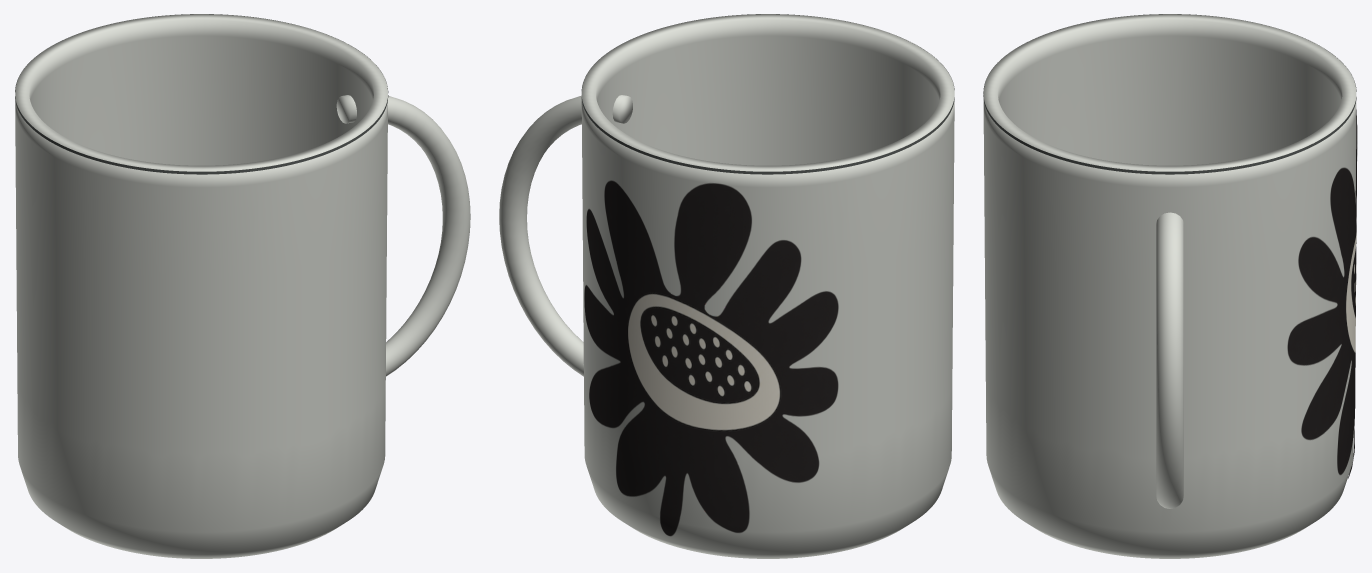
3 views of the same model, side by side, from view 1: azimuth 30°, elevation 25°; view 2: azimuth 150°, elevation 25°; view 3: azimuth 270°, elevation 25° (orthographic).
Parts seen in each view (by area): view 1: body; view 2: body; view 3: body.
Boxes of the visible parts, <box> form: body: <box>15,14,470,558</box>; body: <box>499,14,954,558</box>; body: <box>983,14,1357,558</box>.
Size of the model in its own units: 0.1064 by 0.0943 by 0.0804.
Materials: 3 (1 with a texture image).
